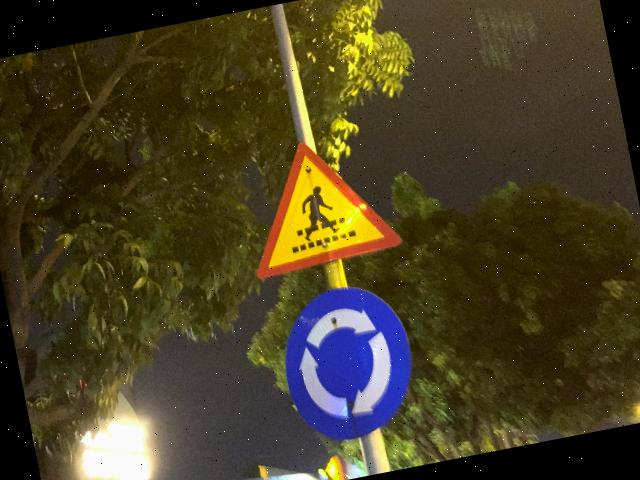duong-nguoi-di-bo-cat-ngang: (233, 126, 404, 278)
noi-giao-nhau-chay-theo-vong-xuyen: (271, 276, 425, 450)
